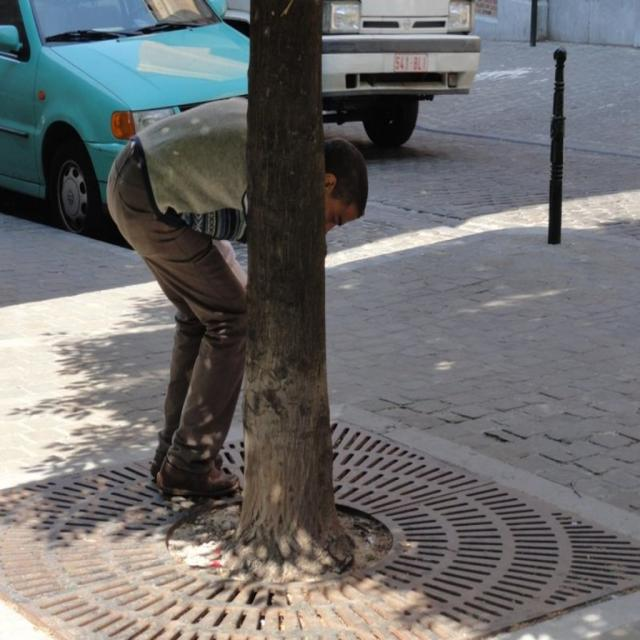Heavy Duty Truck: (318, 1, 481, 139)
Passenger Car: (2, 1, 253, 229)
